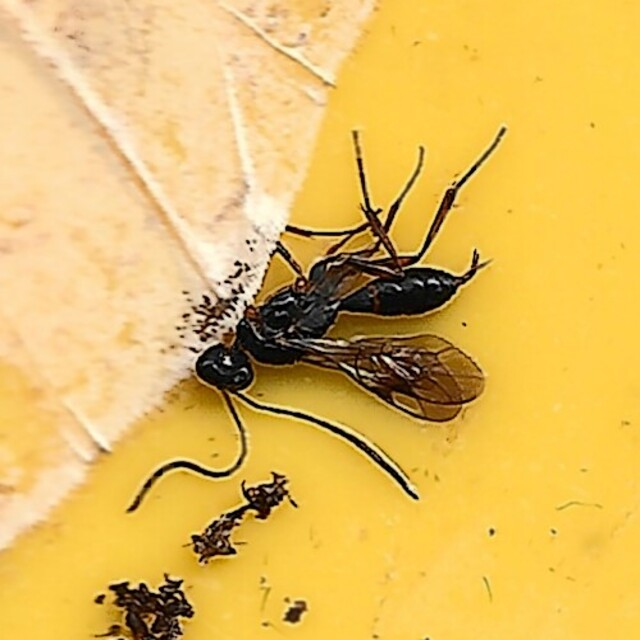Hymenoptera: (128, 127, 512, 513)
